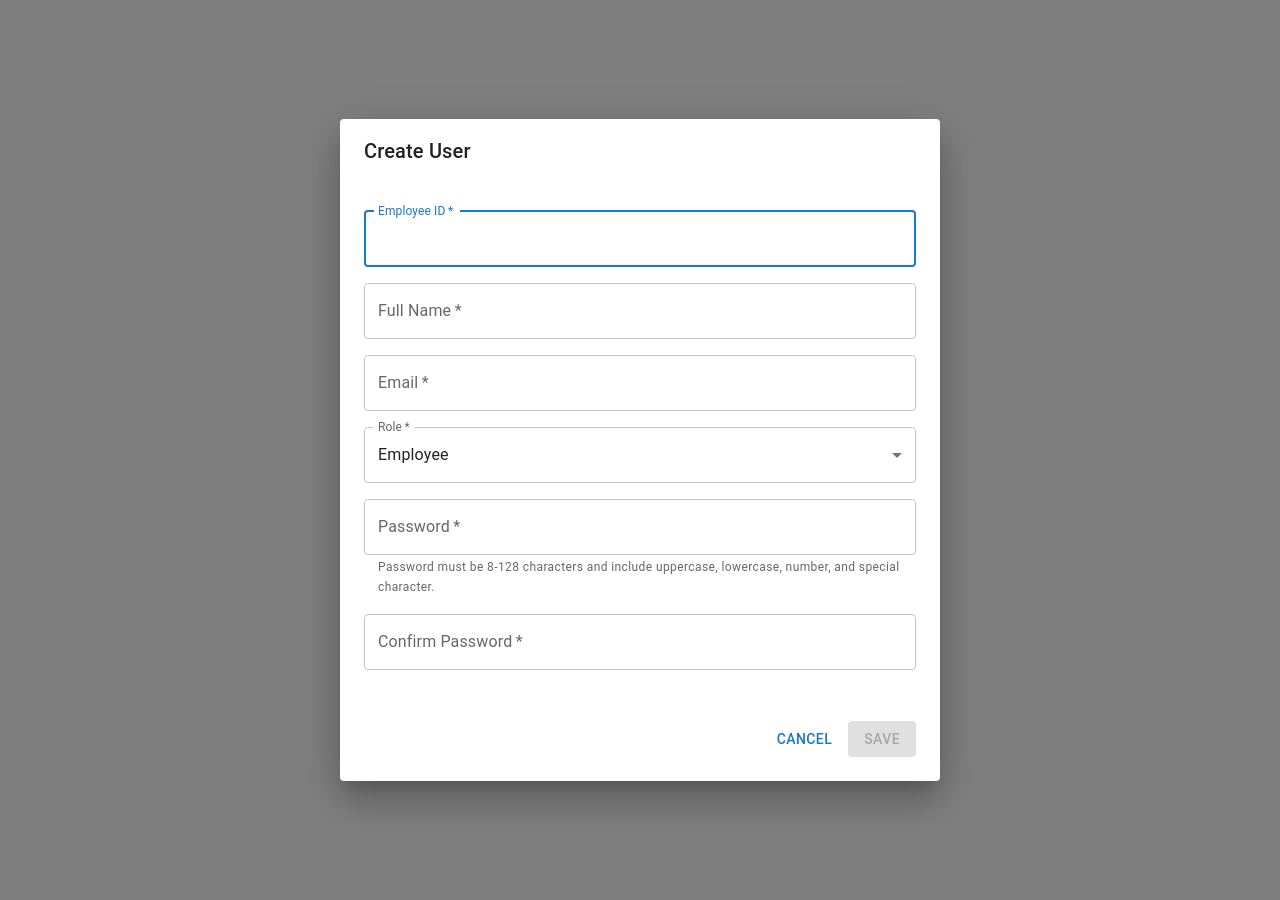
Test: CreateUserDialog › shows server validation errors
The image size is (1280, 900).
Type "EMP010" into the field labelled "Employee ID" at (640, 239), box x1=364 y1=211 x2=916 y2=267
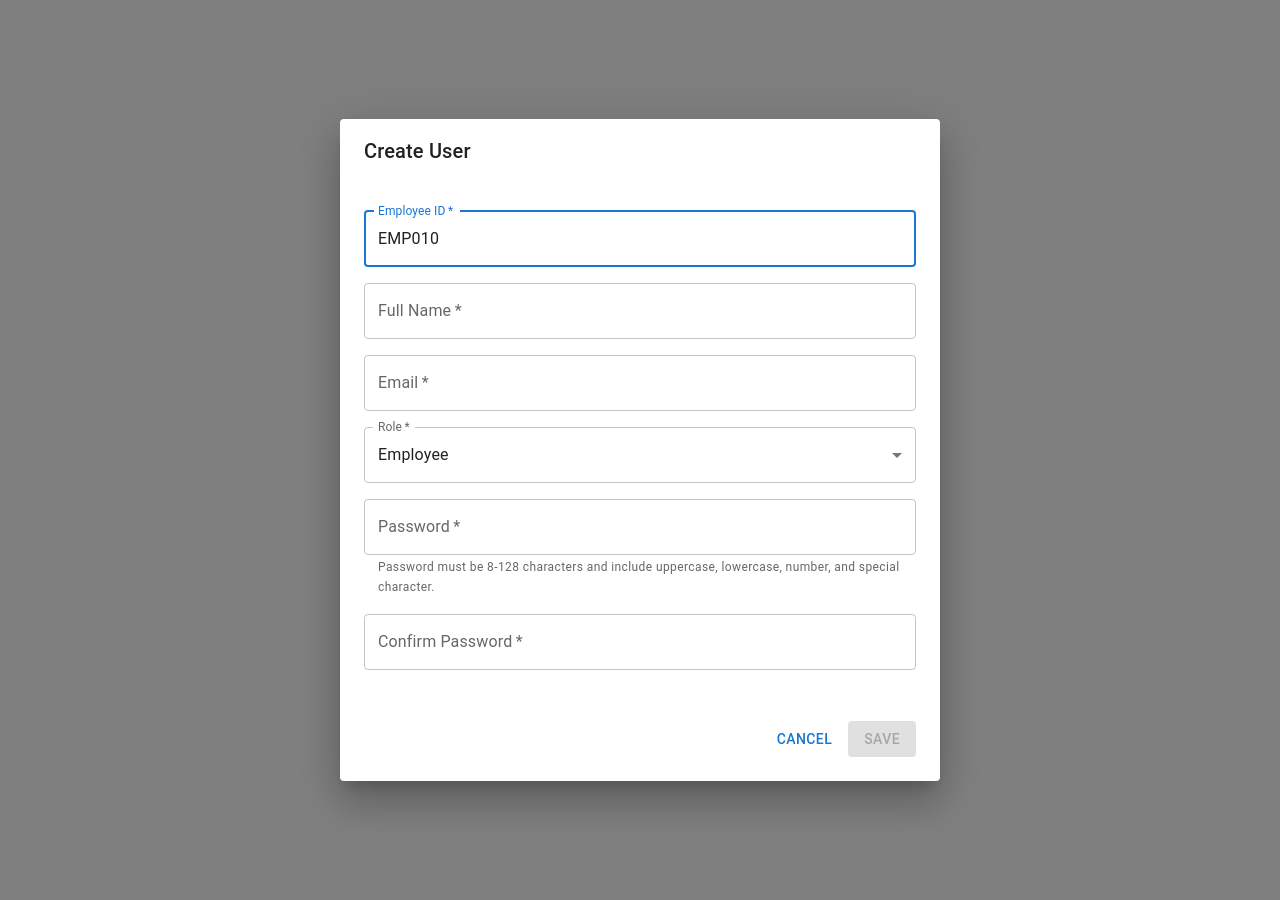
Type "Jane Doe" into the field labelled "Full Name" at (640, 311), box x1=364 y1=283 x2=916 y2=339
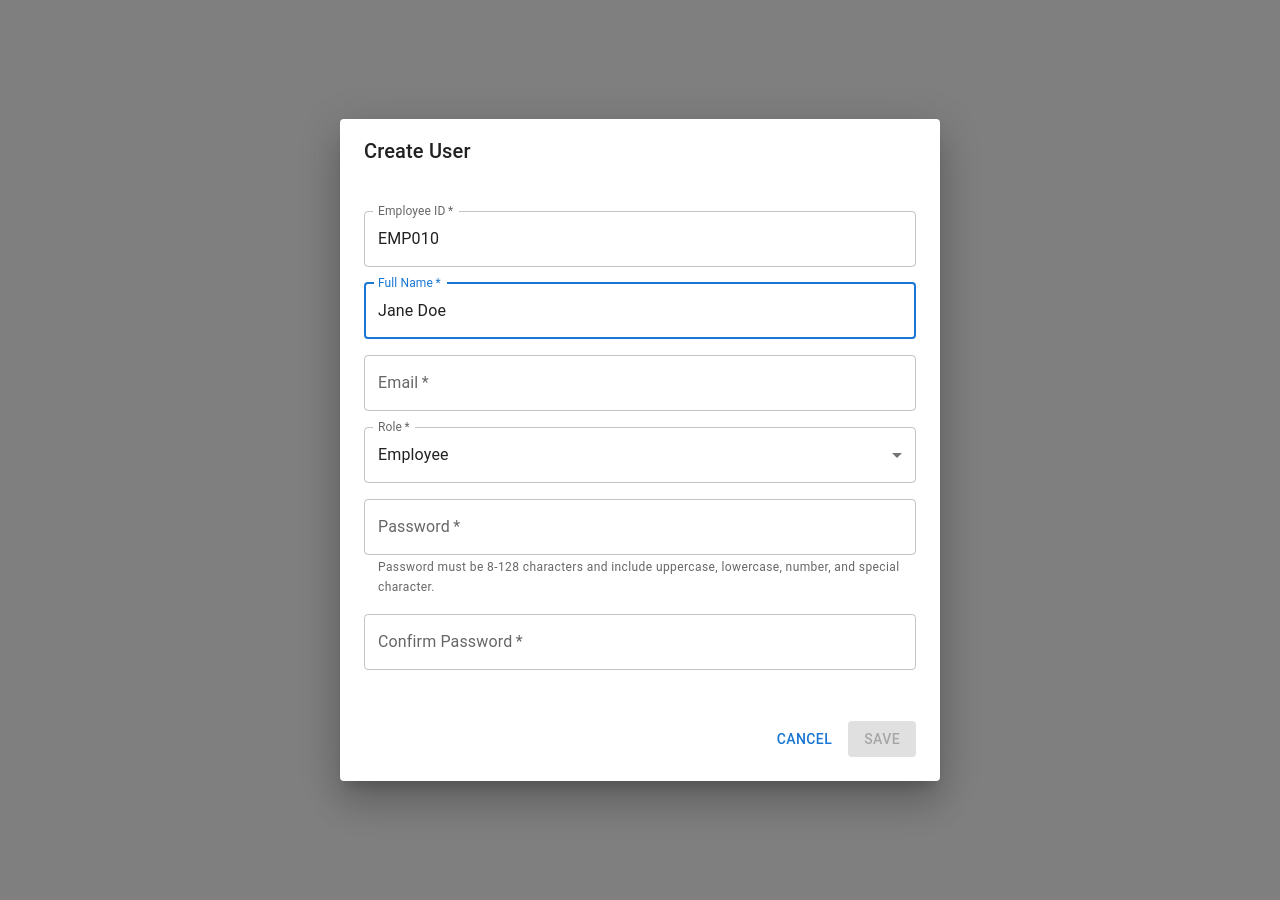
Type "jane.doe@example.com" into the field labelled "Email" at (640, 383), box x1=364 y1=355 x2=916 y2=411
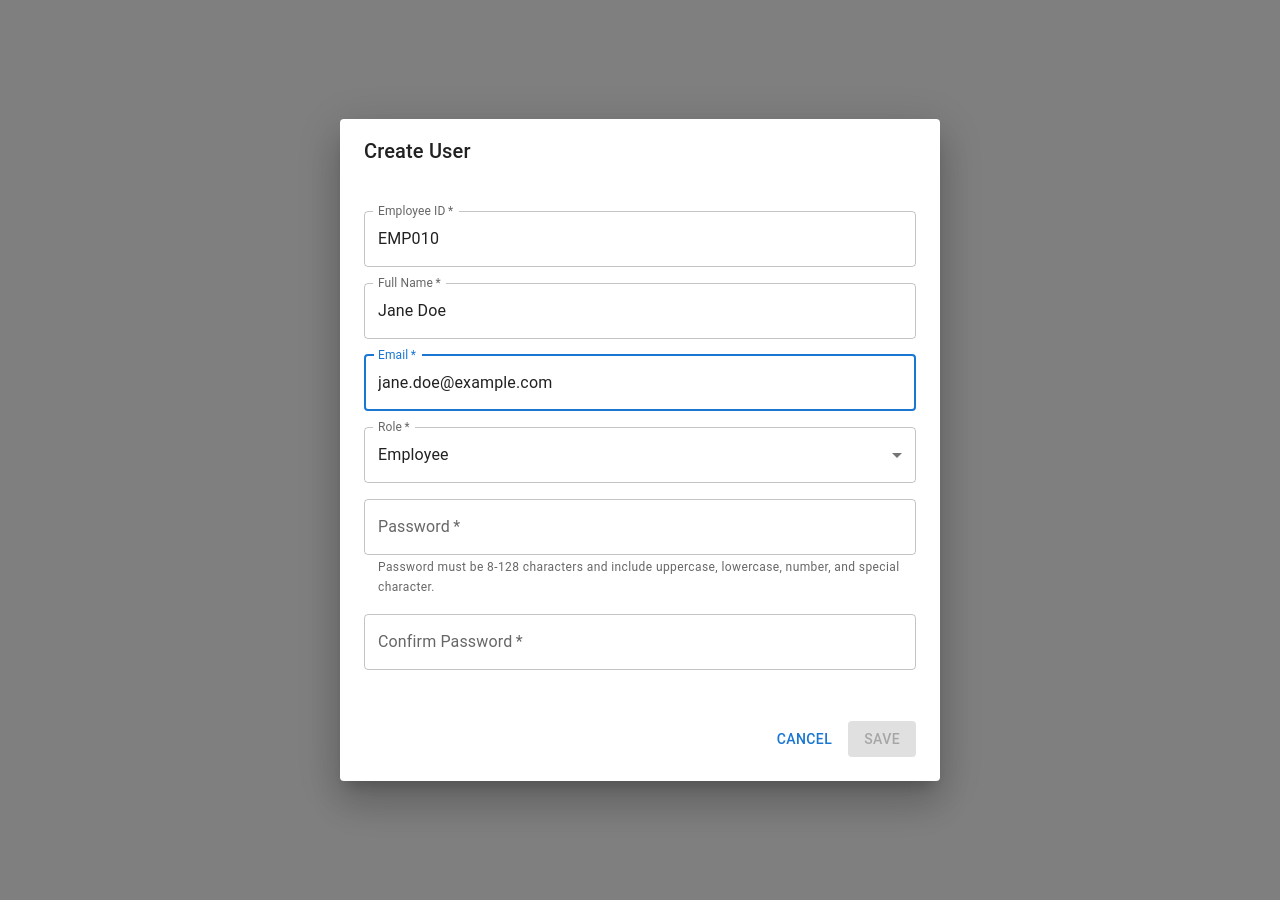
Type "Temp@12345" into the password field labelled "Password *" at (640, 527), box x1=364 y1=499 x2=916 y2=555
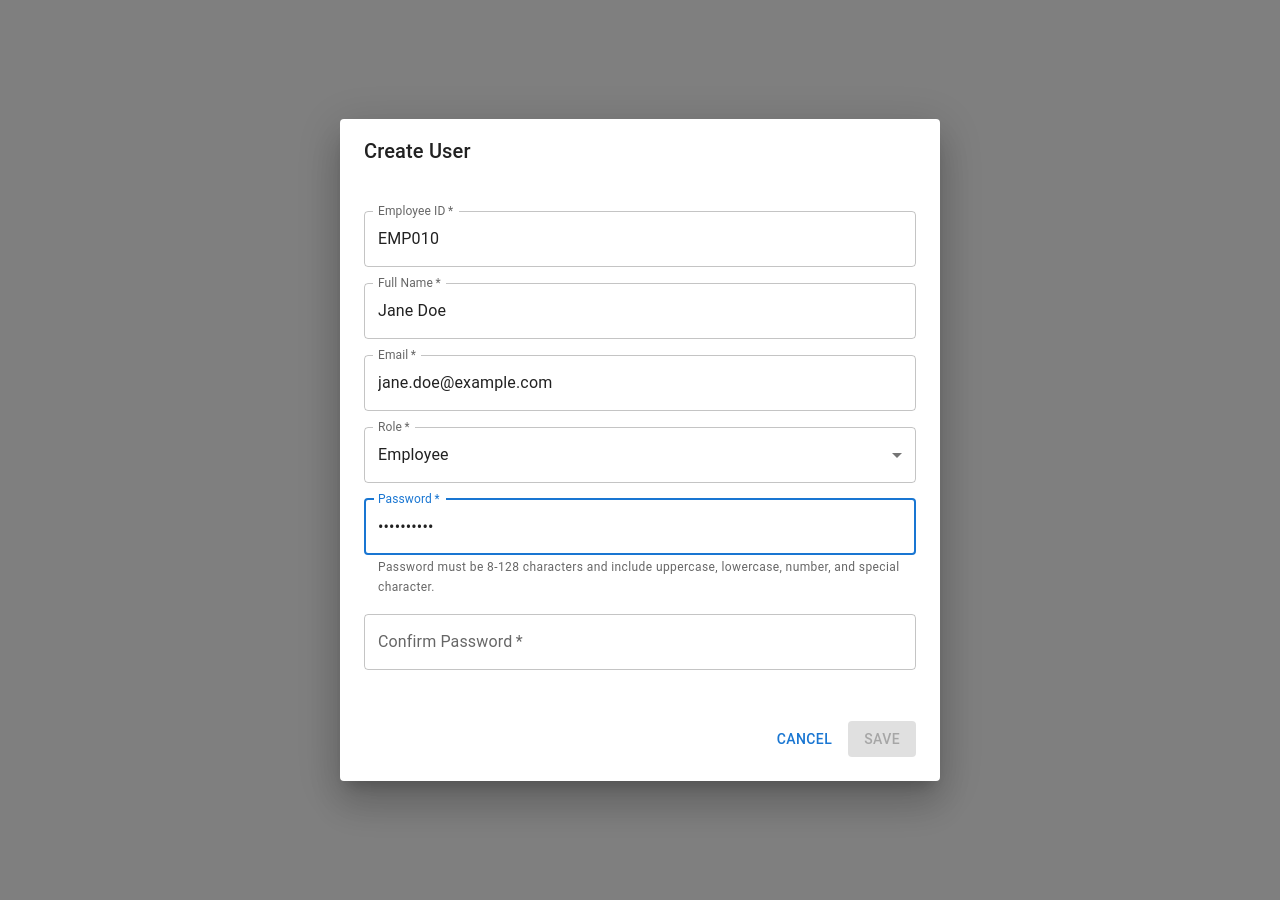
Type "Temp@12345" into the password field labelled "Confirm Password *" at (640, 642), box x1=364 y1=614 x2=916 y2=670
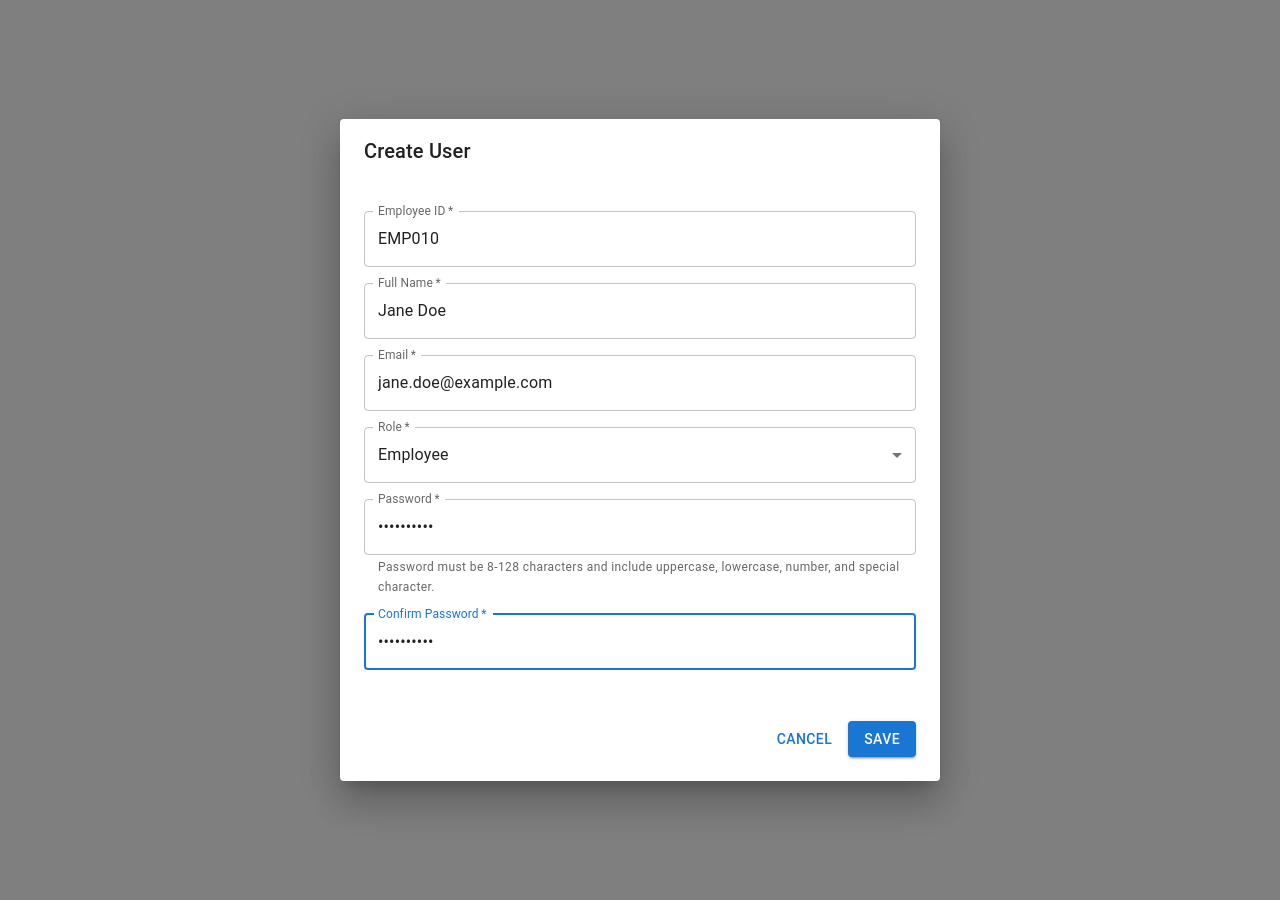
Click the button "Save" at (882, 739), box x1=848 y1=721 x2=916 y2=757
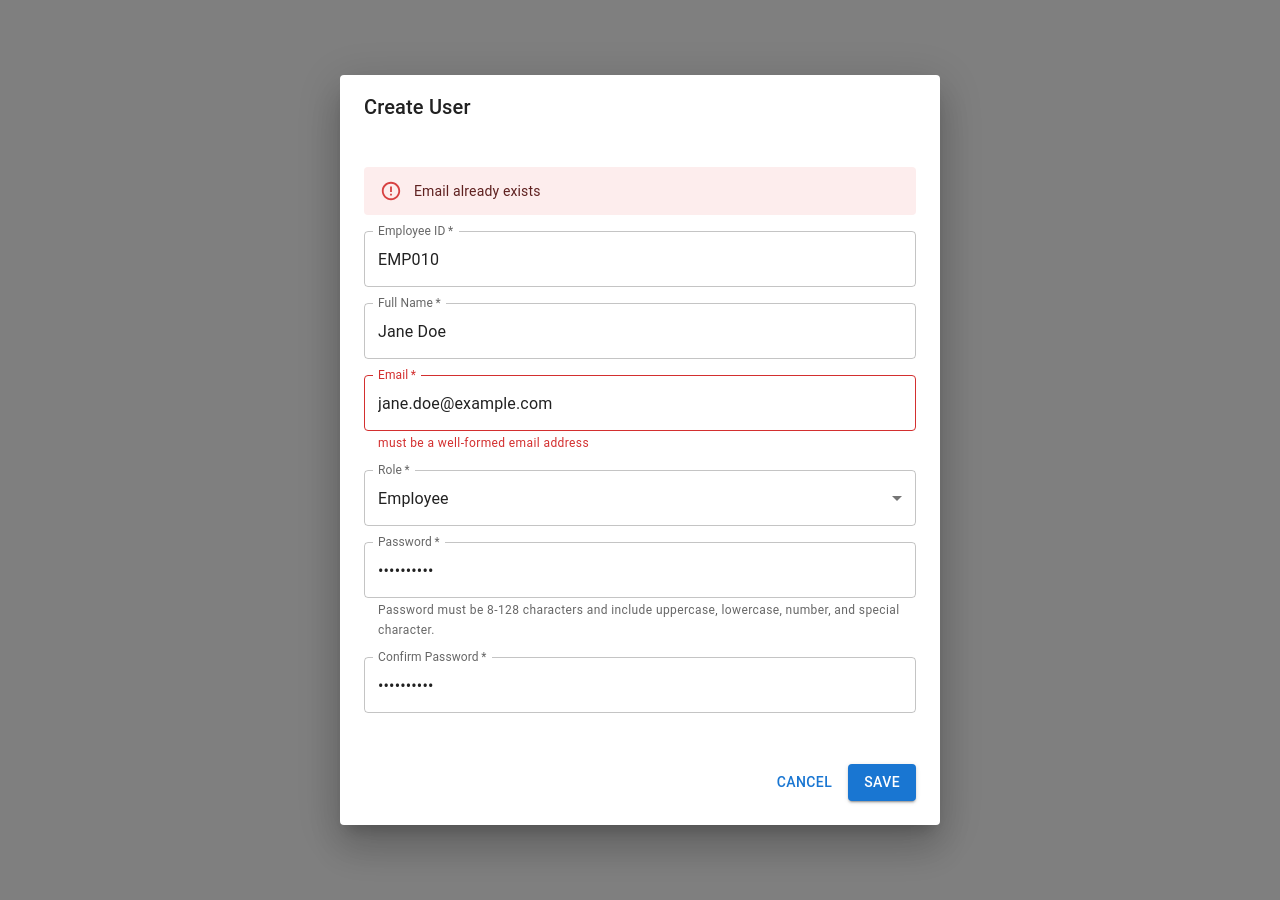
Expected: the text "Email already exists" is shown, x1=414 y1=183 x2=541 y2=199
Expected: the text "must be a well-formed email address" is shown, x1=378 y1=436 x2=589 y2=450
